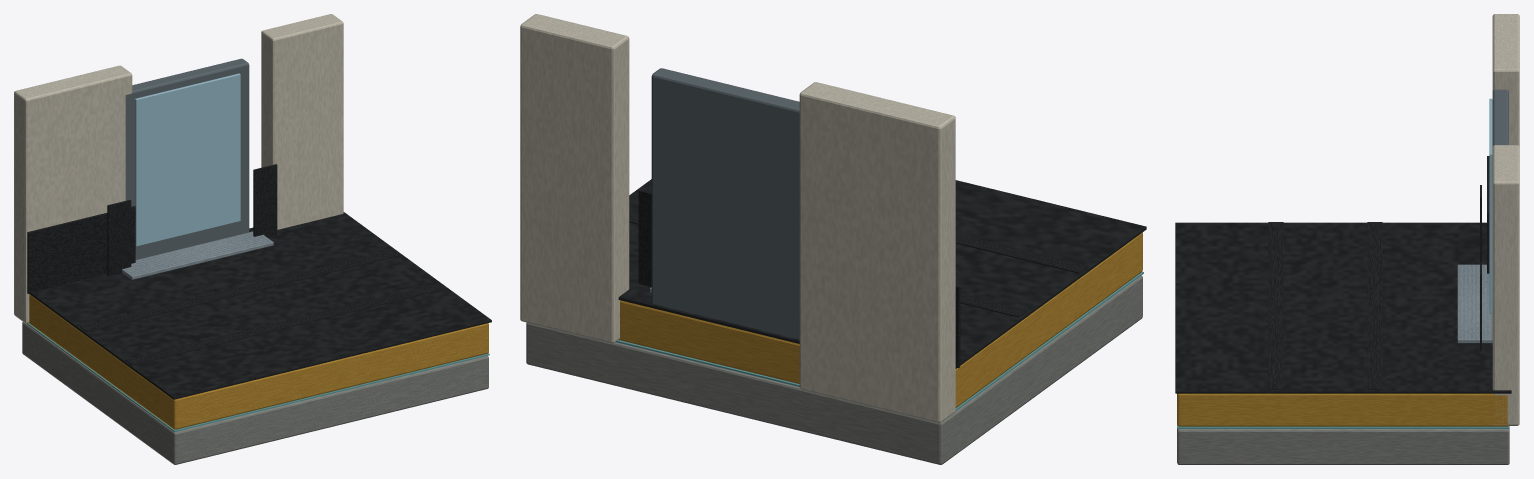
Rendered from modell.glb.
The picture shows the model from 3 angles, left to right: view 1: azimuth 30°, elevation 25°; view 2: azimuth 150°, elevation 25°; view 3: azimuth 270°, elevation 25°; orthographic projection. The views are drawn at different scales.
Parts seen in each view (by area): view 1: f07-abdichtung_deckung, f07-wand_, f07-tuer_.001, f07-untergrund_tragwerk, f07-daemmung_daemmung, f07-tuer_, f07-naht_deckung, f07-anschluss_deckung.001, f07-anschluss_deckung, f07-luftdichtheit_luftdichtheit; view 2: f07-wand_, f07-tuer_, f07-untergrund_tragwerk, f07-abdichtung_deckung, f07-daemmung_daemmung, f07-naht_deckung, f07-luftdichtheit_luftdichtheit, f07-anschluss_deckung.001; view 3: f07-abdichtung_deckung, f07-untergrund_tragwerk, f07-daemmung_daemmung, f07-wand_, f07-naht_deckung, f07-anschluss_deckung, f07-luftdichtheit_luftdichtheit, f07-tuer_, f07-tuer_.001.
Part boxes in pixels (left/top/right/bottom): f07-abdichtung_deckung: left=27, top=206, right=491, bottom=399; f07-wand_: left=14, top=14, right=343, bottom=323; f07-tuer_.001: left=135, top=73, right=240, bottom=246; f07-untergrund_tragwerk: left=22, top=322, right=488, bottom=464; f07-daemmung_daemmung: left=29, top=294, right=488, bottom=429; f07-tuer_: left=125, top=58, right=249, bottom=259; f07-naht_deckung: left=80, top=249, right=447, bottom=365; f07-anschluss_deckung.001: left=107, top=164, right=277, bottom=276; f07-anschluss_deckung: left=122, top=231, right=273, bottom=279; f07-luftdichtheit_luftdichtheit: left=26, top=323, right=489, bottom=431; f07-wand_: left=520, top=14, right=955, bottom=422; f07-tuer_: left=651, top=68, right=799, bottom=339; f07-untergrund_tragwerk: left=526, top=275, right=1142, bottom=464; f07-abdichtung_deckung: left=618, top=179, right=1146, bottom=368; f07-daemmung_daemmung: left=619, top=232, right=1142, bottom=407; f07-naht_deckung: left=629, top=212, right=1088, bottom=317; f07-luftdichtheit_luftdichtheit: left=616, top=271, right=1143, bottom=411; f07-anschluss_deckung.001: left=638, top=190, right=651, bottom=286; f07-abdichtung_deckung: left=1175, top=156, right=1511, bottom=393; f07-untergrund_tragwerk: left=1177, top=429, right=1509, bottom=464; f07-daemmung_daemmung: left=1177, top=393, right=1508, bottom=426; f07-wand_: left=1492, top=14, right=1519, bottom=425; f07-naht_deckung: left=1268, top=222, right=1382, bottom=389; f07-anschluss_deckung: left=1457, top=264, right=1492, bottom=343; f07-luftdichtheit_luftdichtheit: left=1177, top=425, right=1509, bottom=428; f07-tuer_: left=1492, top=89, right=1508, bottom=146; f07-tuer_.001: left=1489, top=98, right=1492, bottom=313.
Size of the model in its own units: 2.24 by 1.74 by 1.92.
8 materials, 5 textured.
